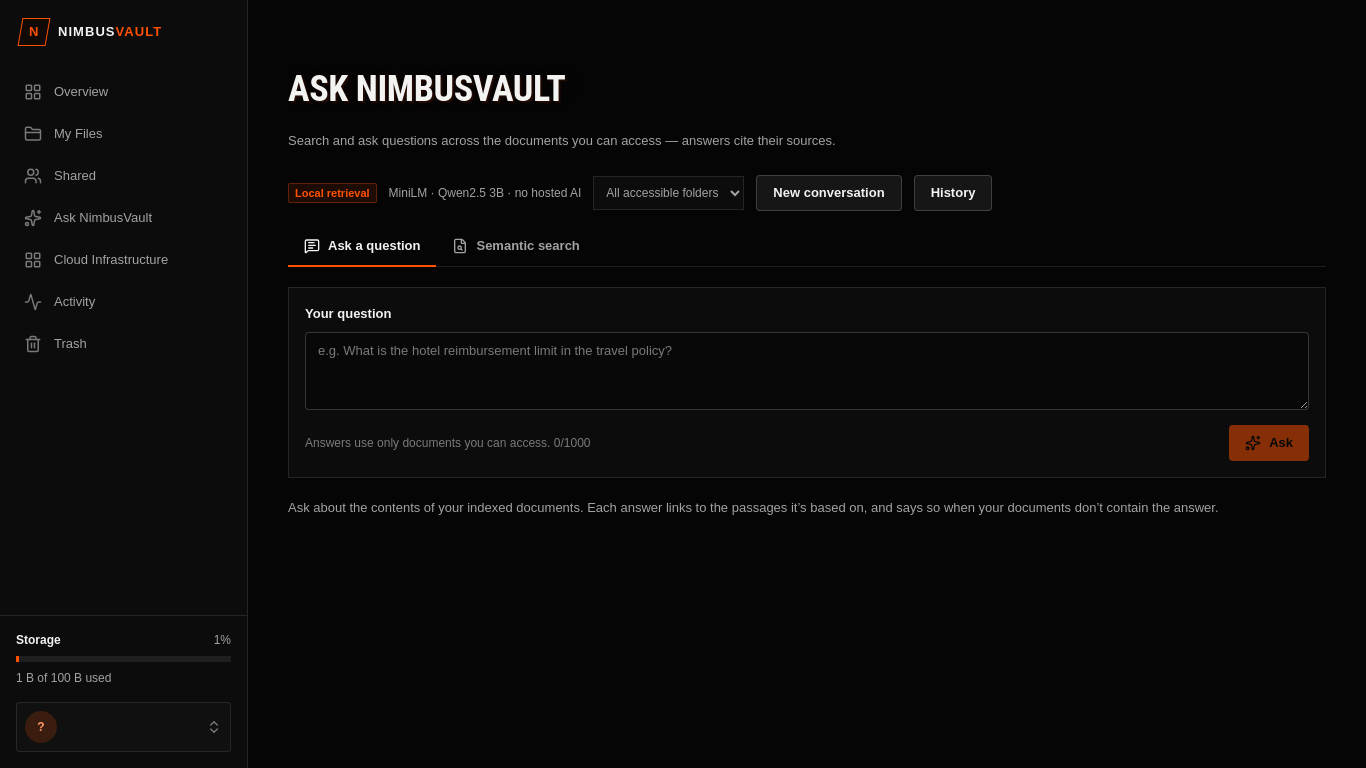
Test case: AskPage › warns when an answer cites no sources
Step 1. Replace the text in the text box labelled "Your question" with "What is the hotel cap?" → (807, 371), box [305,332,1309,410]
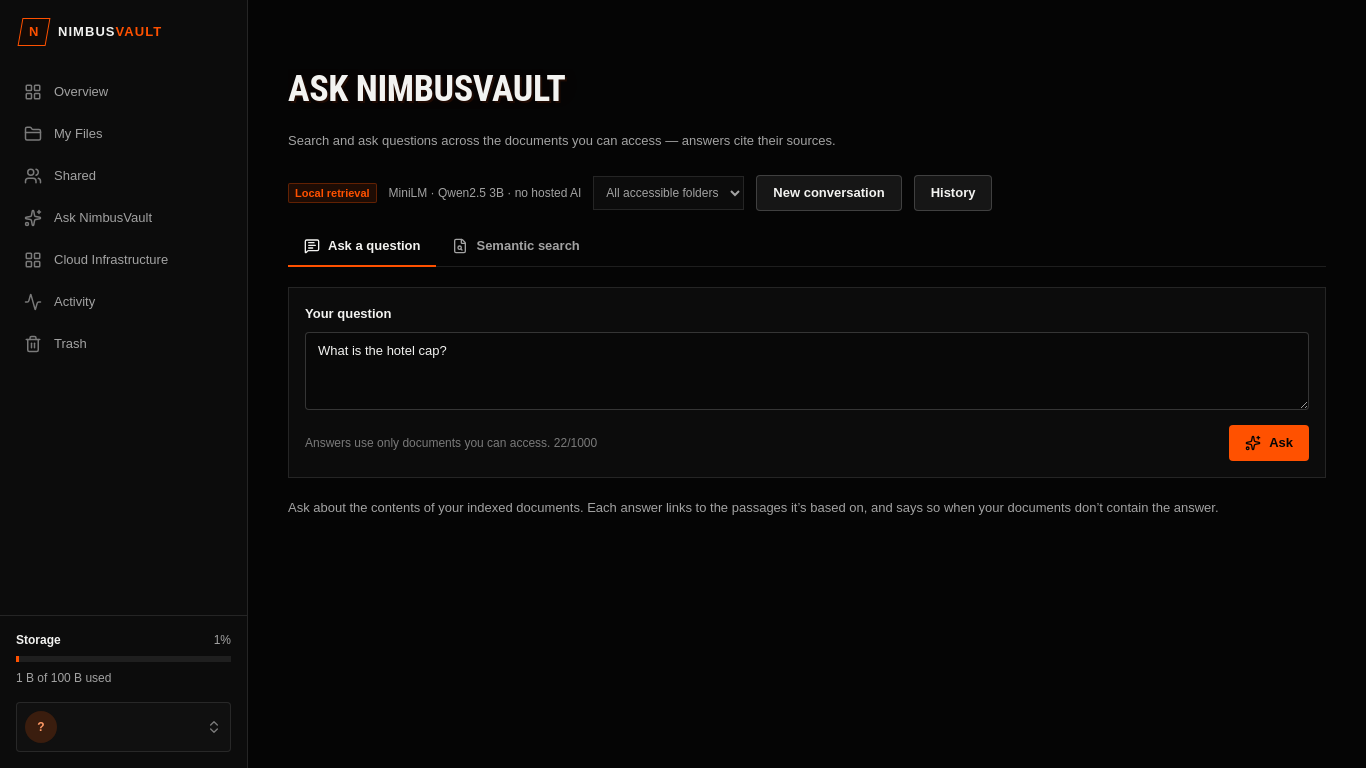
Step 2. Click the button "Ask" → (1269, 443), box [1229,425,1309,461]
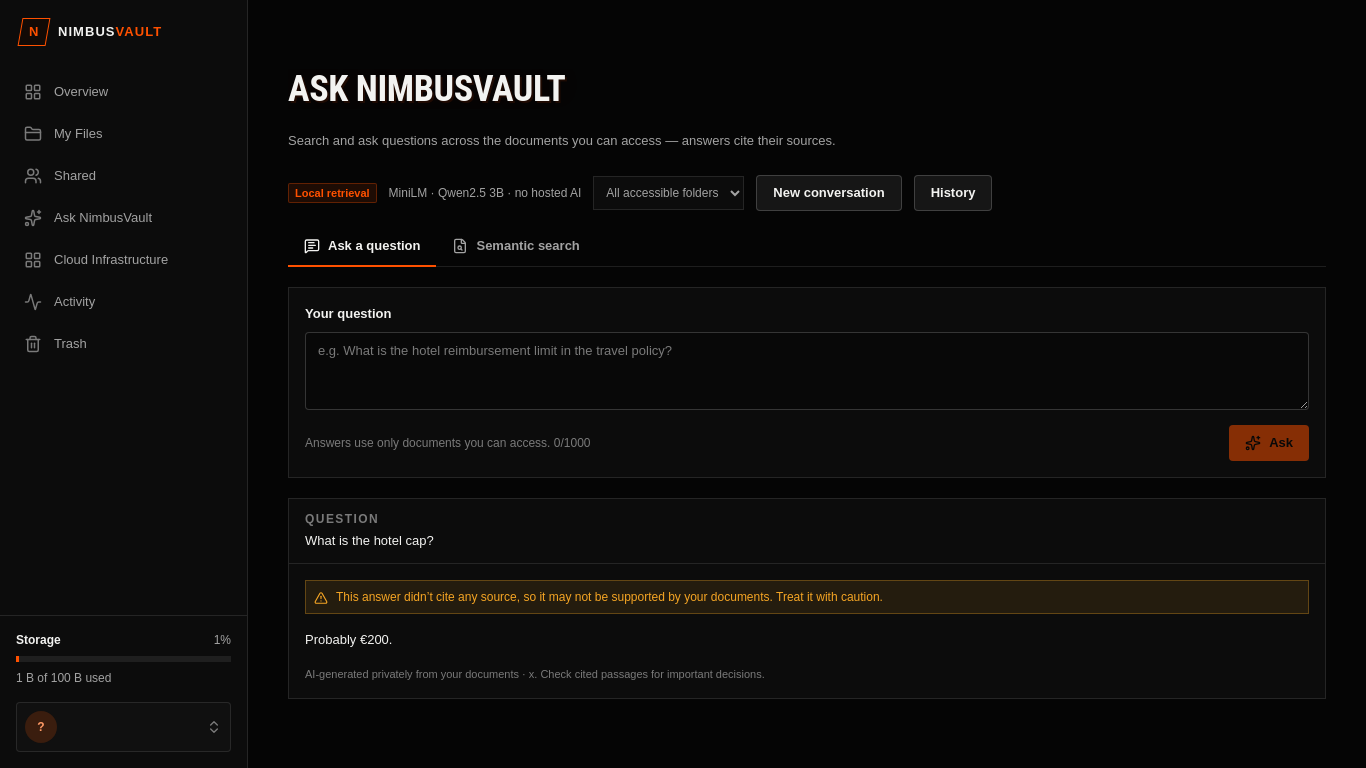
Expected: the text "didn’t cite any source" is shown, [336,590,883,604]
